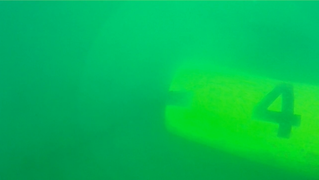4: (254, 83, 301, 139)
pipe: (164, 62, 319, 180)
